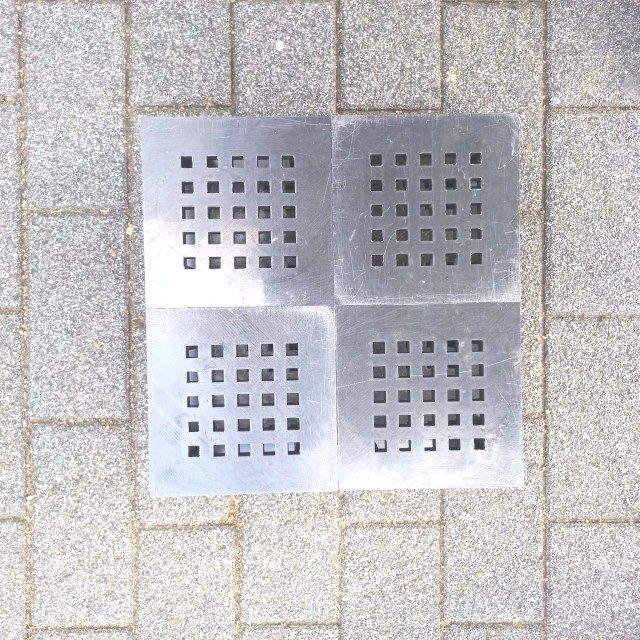pallet: (149, 108, 529, 488)
